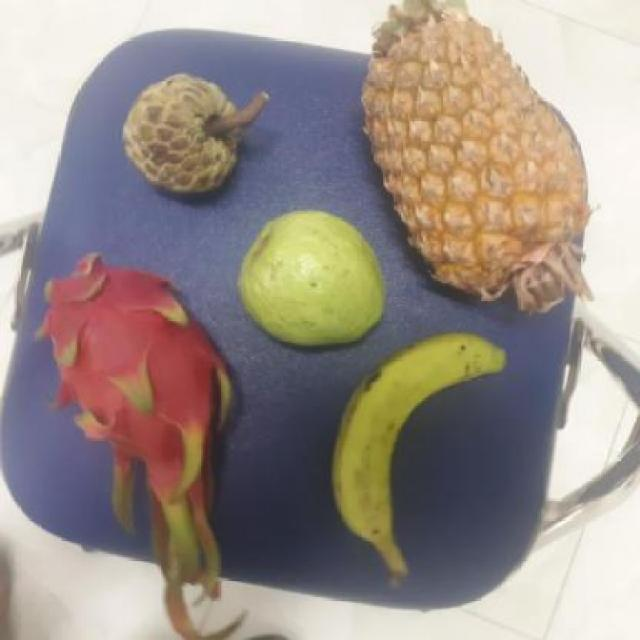banana: (330, 334, 504, 537)
dragon fruit: (38, 259, 238, 526)
guava: (230, 210, 384, 344)
pineapple: (360, 11, 580, 312)
sugar apple: (119, 74, 248, 198)
